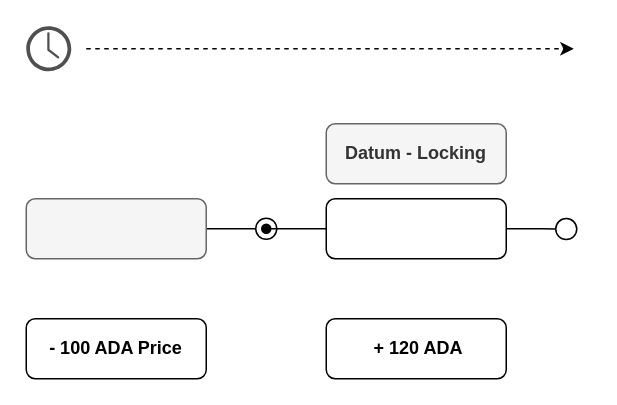
The diagram is 617 pixels wide and 405 high, and some of its shapes have lost their labels. Here are the shapes that lost their labels. From the top down, the centre of each, then its label:
the point at 115,228: Buyer
the point at 415,228: Plutus V3
